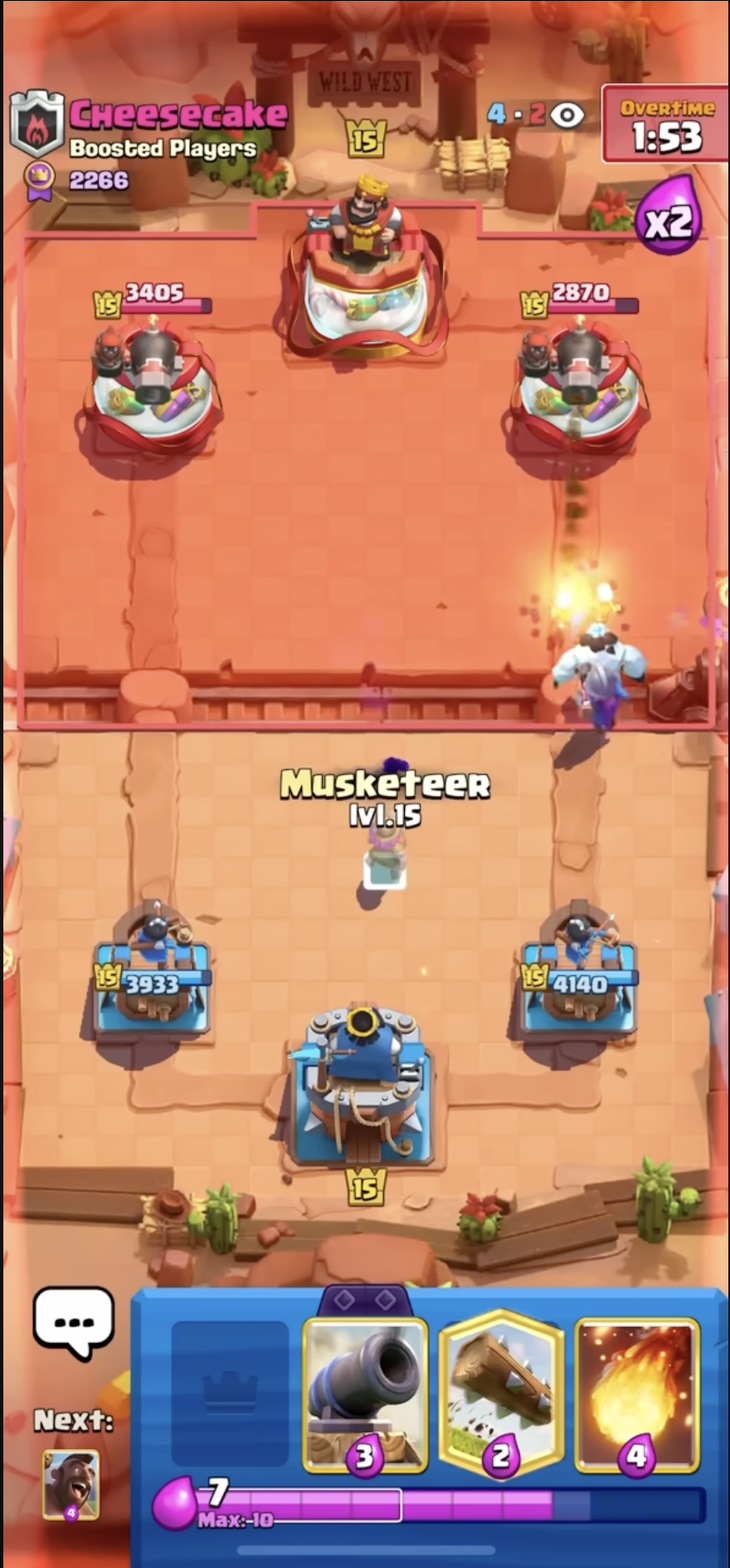evo_musketeer: (570, 662, 633, 754)
ice_golem: (531, 601, 669, 720)
